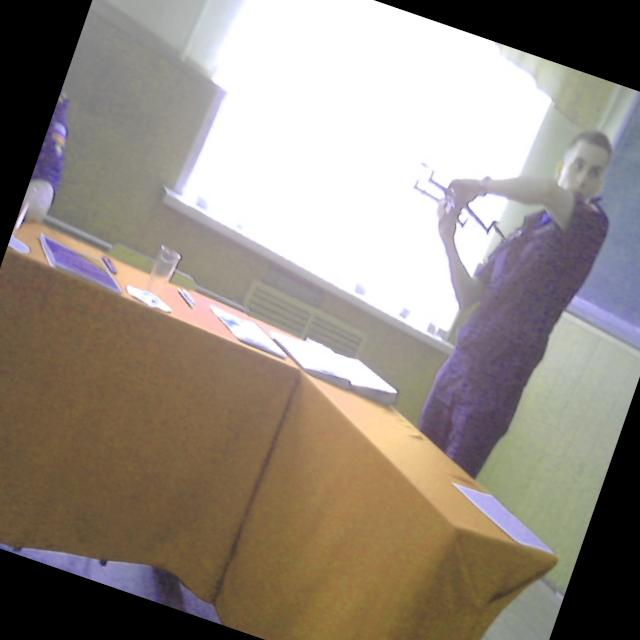drone: (390, 145, 516, 256)
